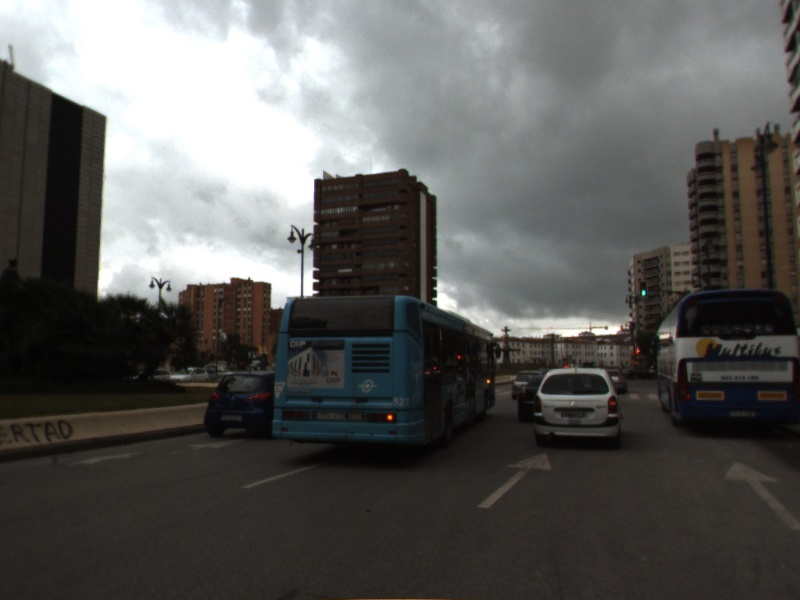STRAIGHT: (720, 460, 800, 531), (475, 450, 554, 511)
